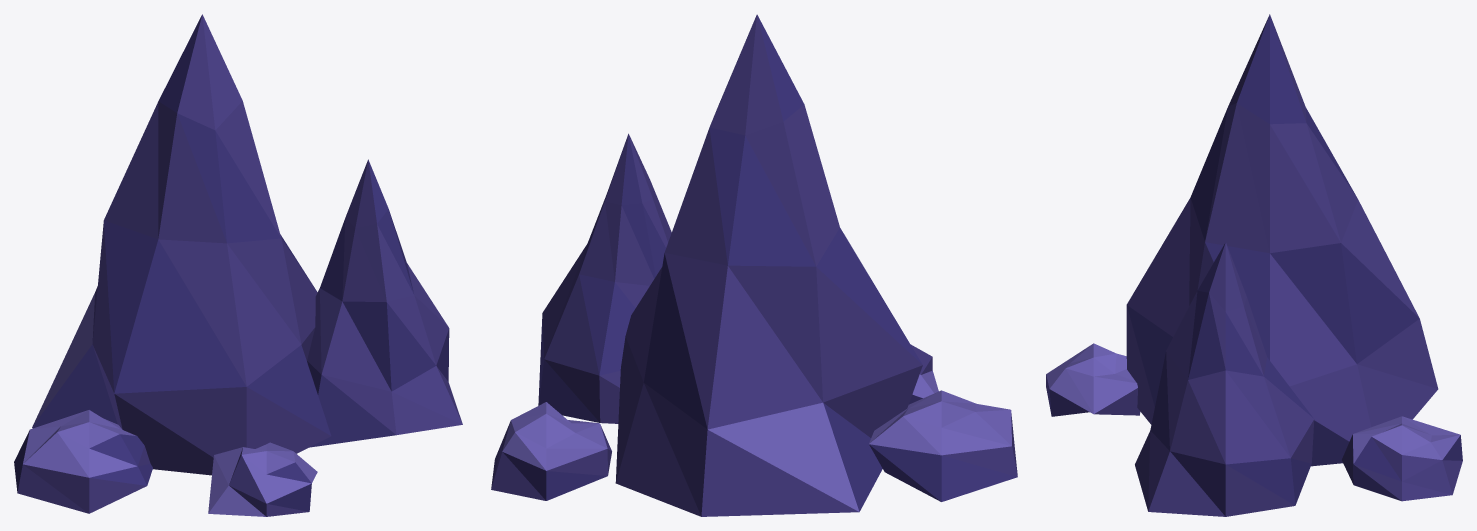
Rendered from Mine_Rock_Spire_B.obj.
The picture shows the model from 3 angles, left to right: view 1: azimuth 30°, elevation 25°; view 2: azimuth 150°, elevation 25°; view 3: azimuth 270°, elevation 25°; orthographic projection. The views are drawn at different scales.
Parts seen in each view (by area): view 1: Mine_Rock_Spire_B; view 2: Mine_Rock_Spire_B; view 3: Mine_Rock_Spire_B.
Part boxes in pixels (x1=…): Mine_Rock_Spire_B: x1=14, y1=14, x2=462, y2=516; Mine_Rock_Spire_B: x1=491, y1=14, x2=1017, y2=516; Mine_Rock_Spire_B: x1=1046, y1=14, x2=1462, y2=516.
Size of the model in its own units: 2.7 by 2.46 by 2.27.
